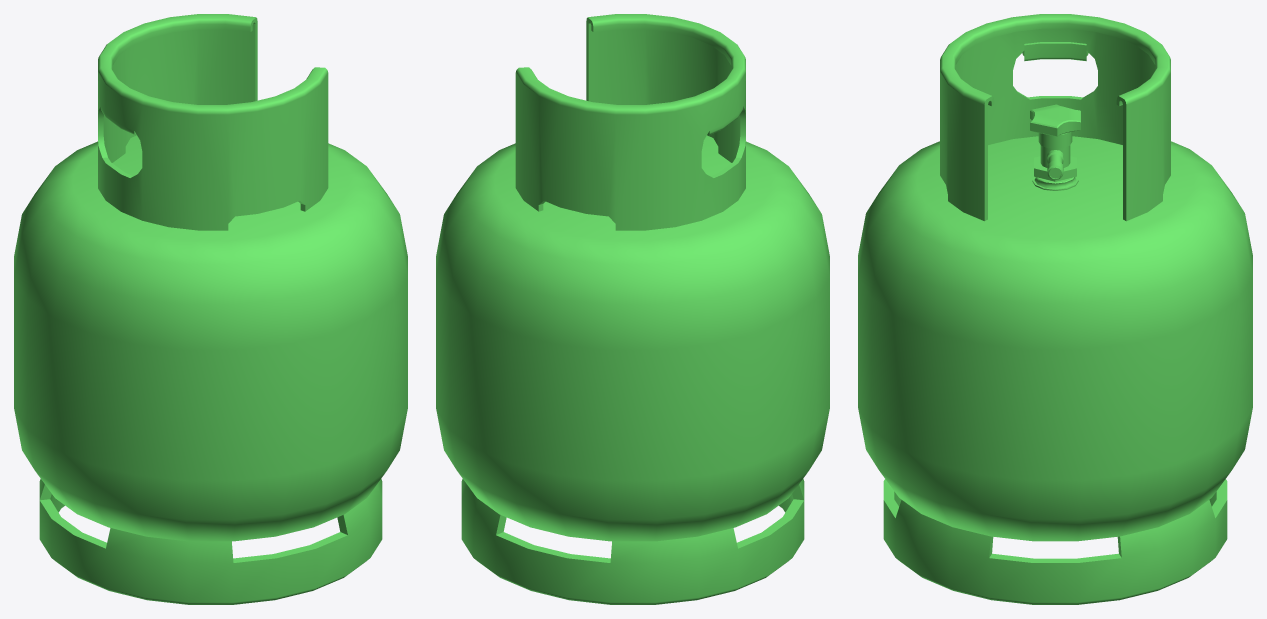
File: gasCylinderSmall.fbx
3 views of the same model, side by side, from view 1: azimuth 30°, elevation 25°; view 2: azimuth 150°, elevation 25°; view 3: azimuth 270°, elevation 25° (orthographic).
Visible parts, largest first — view 1: Gas_Cylinder_Small; view 2: Gas_Cylinder_Small; view 3: Gas_Cylinder_Small.
Part boxes in pixels (bbox=[...]): Gas_Cylinder_Small: bbox=[14, 14, 407, 604]; Gas_Cylinder_Small: bbox=[436, 14, 829, 604]; Gas_Cylinder_Small: bbox=[858, 14, 1252, 604].
Size of the model in its own units: 20 by 26.5 by 20.
